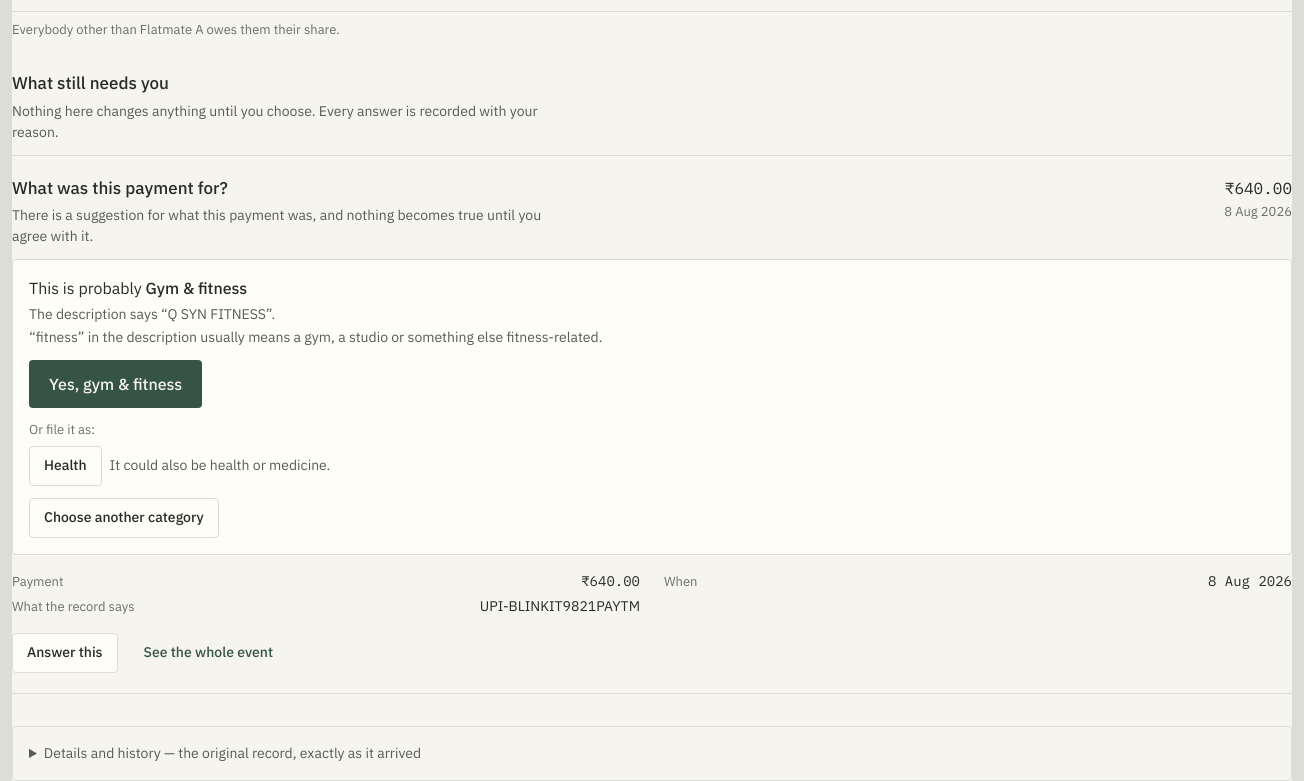
what still needs you › asks the question and keeps the decision behind the existing inspector
(page scrolled)
Expected: the heading "What was this payment for?" is shown, [12, 176, 228, 198]
Expected: the button "Accept" is not shown
Click the button "Answer this" at x=65, y=652, box [12, 632, 118, 672]
(page scrolled)
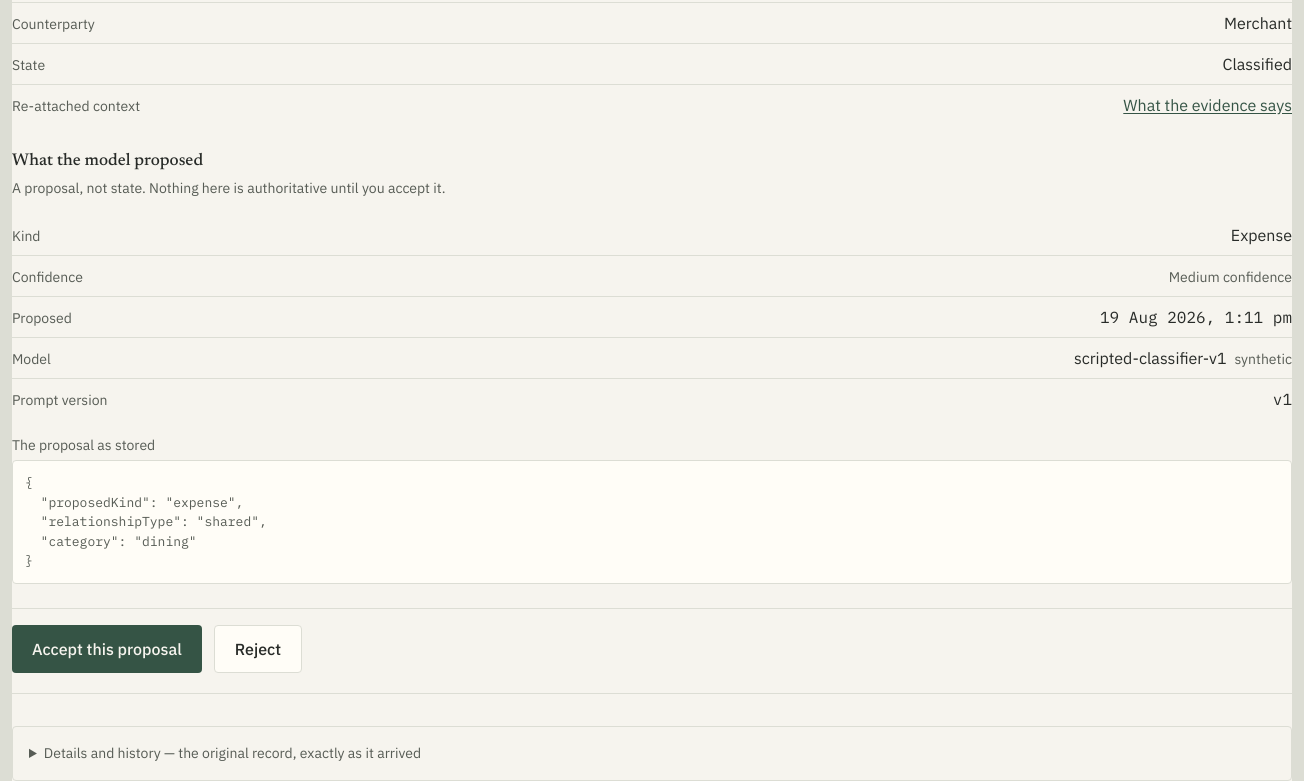
Result: the button "Accept this proposal" is shown at [12, 624, 202, 672]
